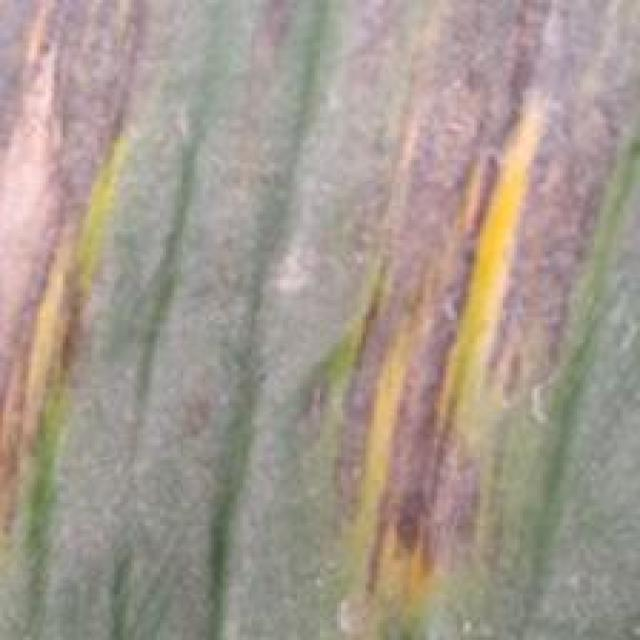Early_leaf_spot: (317, 0, 623, 623), (0, 0, 166, 520), (243, 0, 308, 77)
